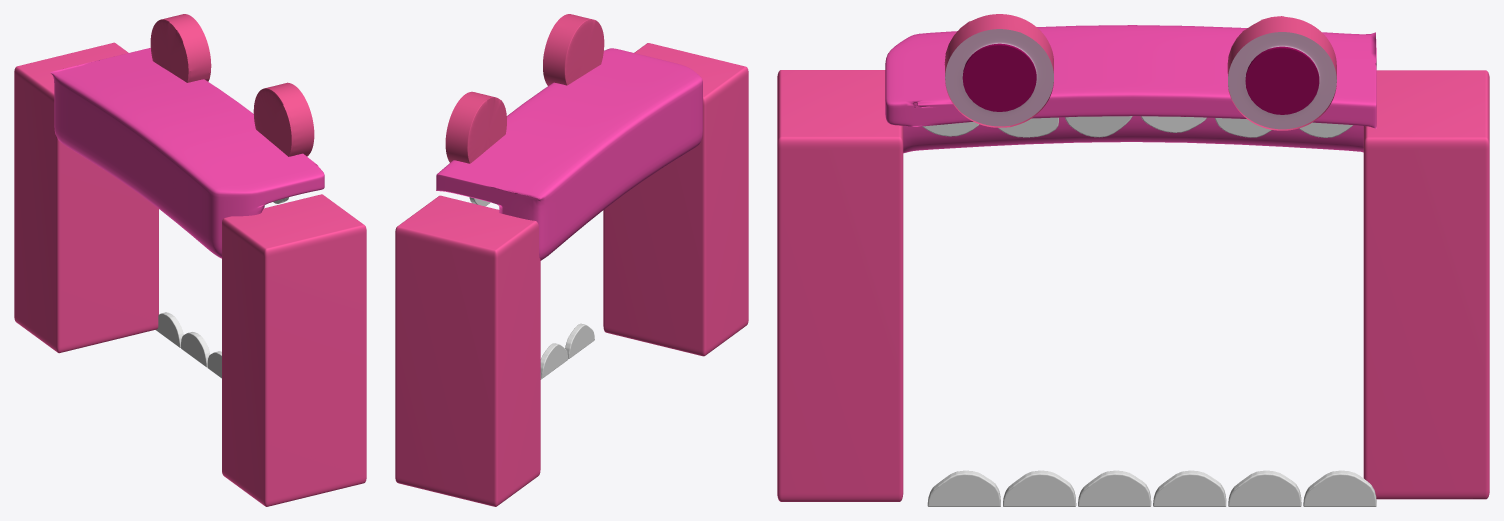
Rendered from Wall.fbx.
The picture shows the model from 3 angles, left to right: view 1: azimuth 30°, elevation 25°; view 2: azimuth 150°, elevation 25°; view 3: azimuth 270°, elevation 25°; orthographic projection. The views are drawn at different scales.
Visible parts, largest first — view 1: Plane.014, Plane.015, Circle.011, Circle.012; view 2: Plane.014, Plane.015, Circle.011, Circle.012; view 3: Plane.014, Plane.015, Circle.011, Circle.012.
Part boxes in pixels (x1=…): Plane.014: x1=14, y1=42, x2=366, y2=506; Plane.015: x1=50, y1=48, x2=324, y2=258; Circle.011: x1=150, y1=14, x2=314, y2=156; Circle.012: x1=155, y1=197, x2=288, y2=378; Plane.014: x1=395, y1=43, x2=748, y2=506; Plane.015: x1=436, y1=48, x2=702, y2=260; Circle.011: x1=445, y1=14, x2=604, y2=163; Circle.012: x1=469, y1=197, x2=594, y2=379; Plane.014: x1=777, y1=70, x2=1489, y2=501; Plane.015: x1=885, y1=25, x2=1376, y2=153; Circle.011: x1=944, y1=14, x2=1336, y2=130; Circle.012: x1=922, y1=116, x2=1376, y2=506.
Size of the model in its own units: 629 by 467 by 161.
